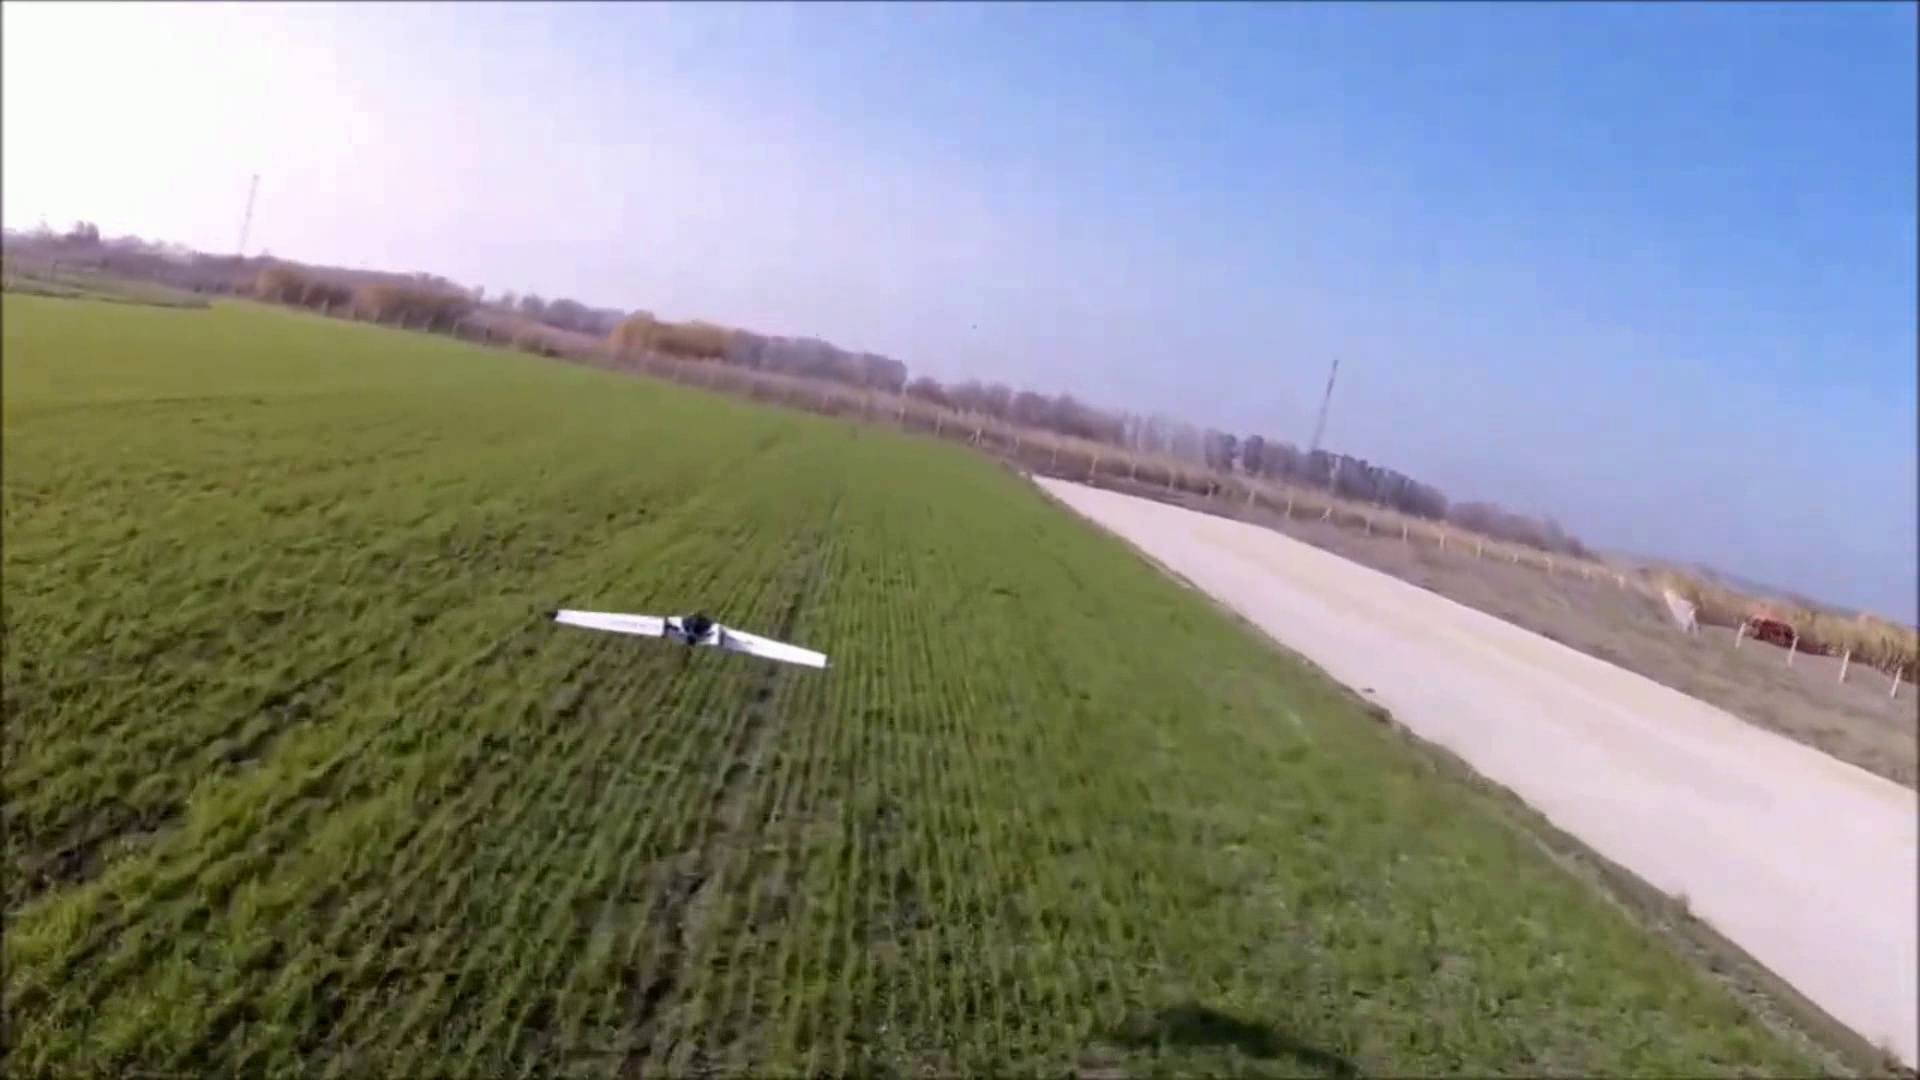airplane: (550, 607, 828, 674)
